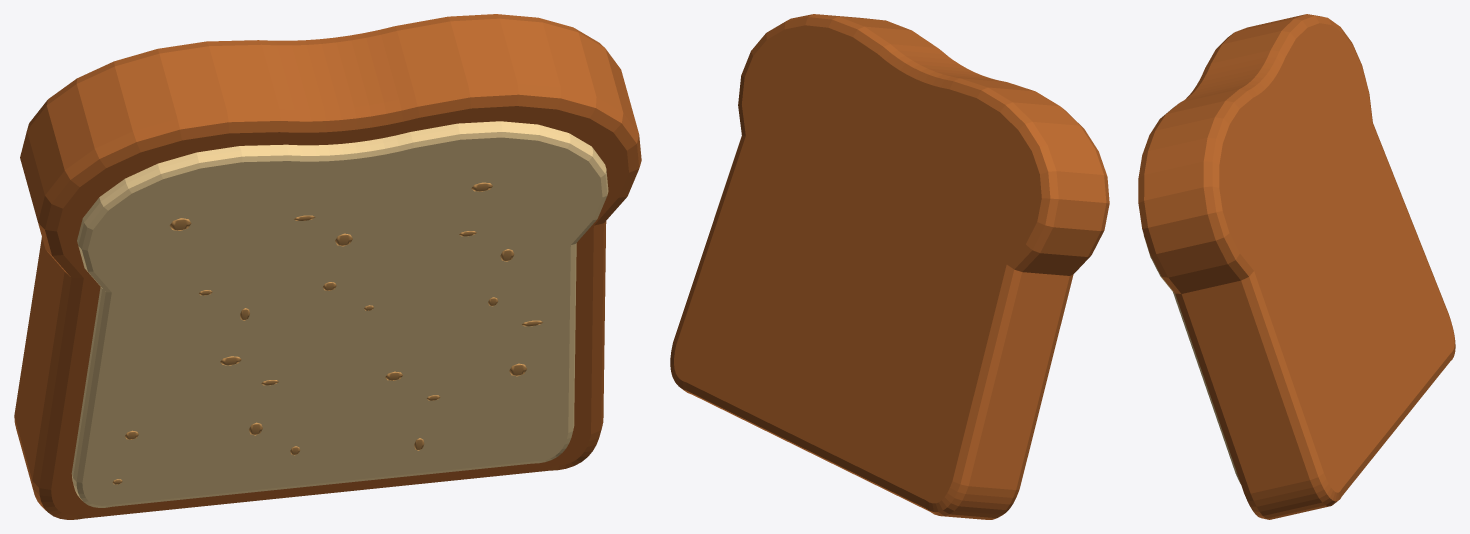
File: toast.glb
The picture shows the model from 3 angles, left to right: view 1: azimuth 30°, elevation 25°; view 2: azimuth 150°, elevation 25°; view 3: azimuth 270°, elevation 25°; orthographic projection. The views are drawn at different scales.
Parts seen in each view (by area): view 1: toast; view 2: toast; view 3: toast.
Part boxes in pixels (<box>): toast: <box>14,14,641,519</box>; toast: <box>670,14,1109,519</box>; toast: <box>1138,14,1455,519</box>.
Bounding box in the file's own units: 0.9697 × 0.8477 × 0.6549.
